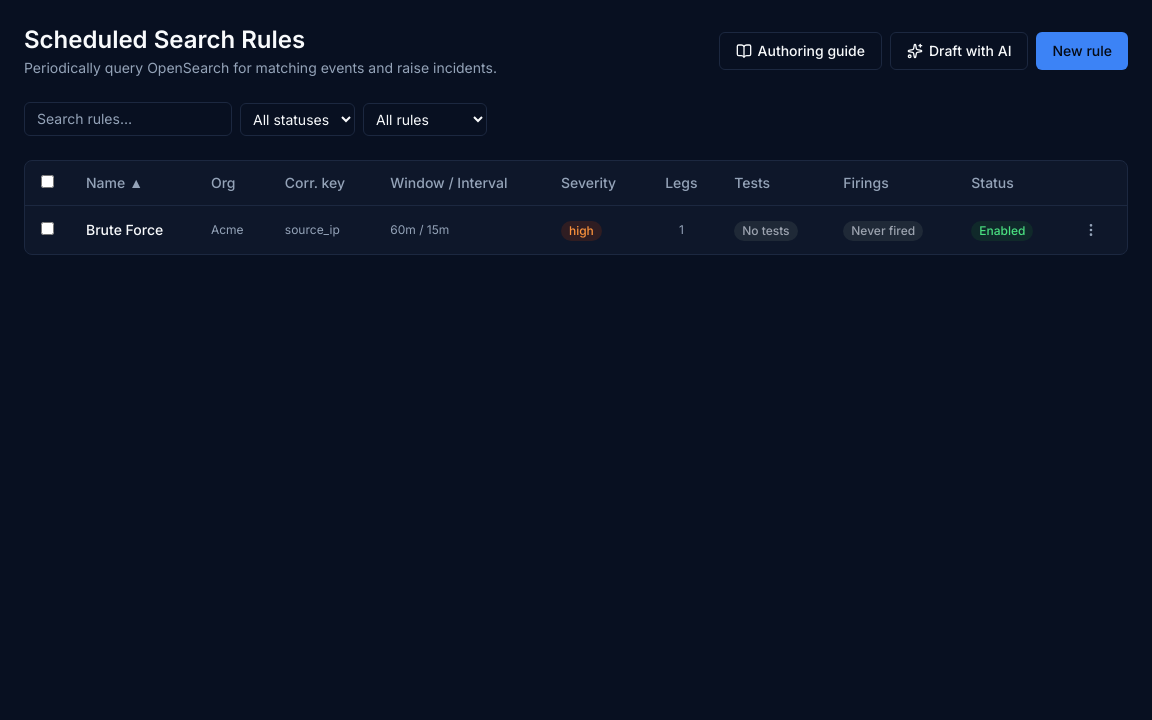
Test: SearchRulesAdmin — clickable rule name › opens the edit drawer pre-populated when the rule name is clicked
Click the button "Brute Force".
click(125, 230)  # box [86,220,163,240]
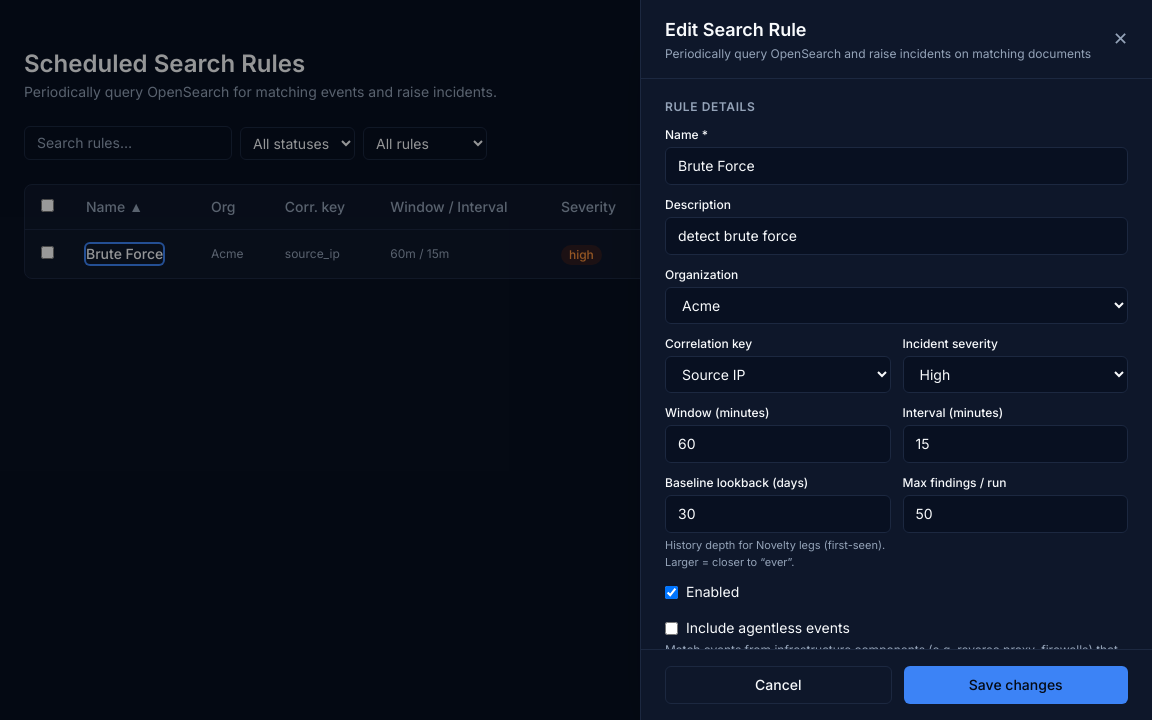
Now the heading "Edit Search Rule" is shown, box [665,19,806,40]
Now the button "Save changes" is shown, box [904,666,1128,704]
Now the field showing "Brute Force" below "Name *" is shown, box [665,147,1128,185]
